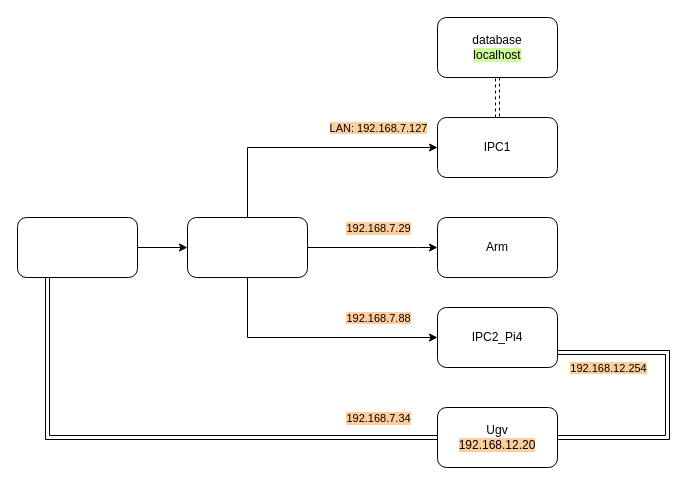
Some shapes in this 687 by 485 pixel diagram are drawn without their labels. The centre of each missing label's shape, as x and y in pixels:
"4G Router 192.168.7.1" goes at (x=77, y=247).
"Switch 192.168.7.1" goes at (x=247, y=247).
